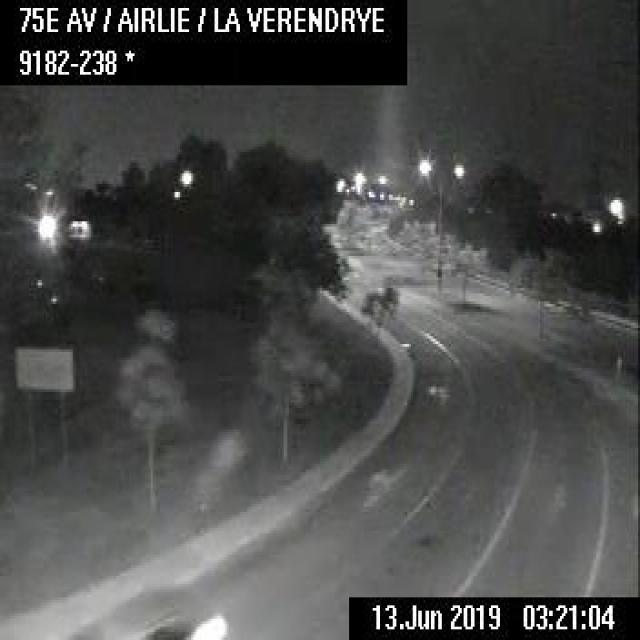vehicle: (124, 614, 227, 638)
